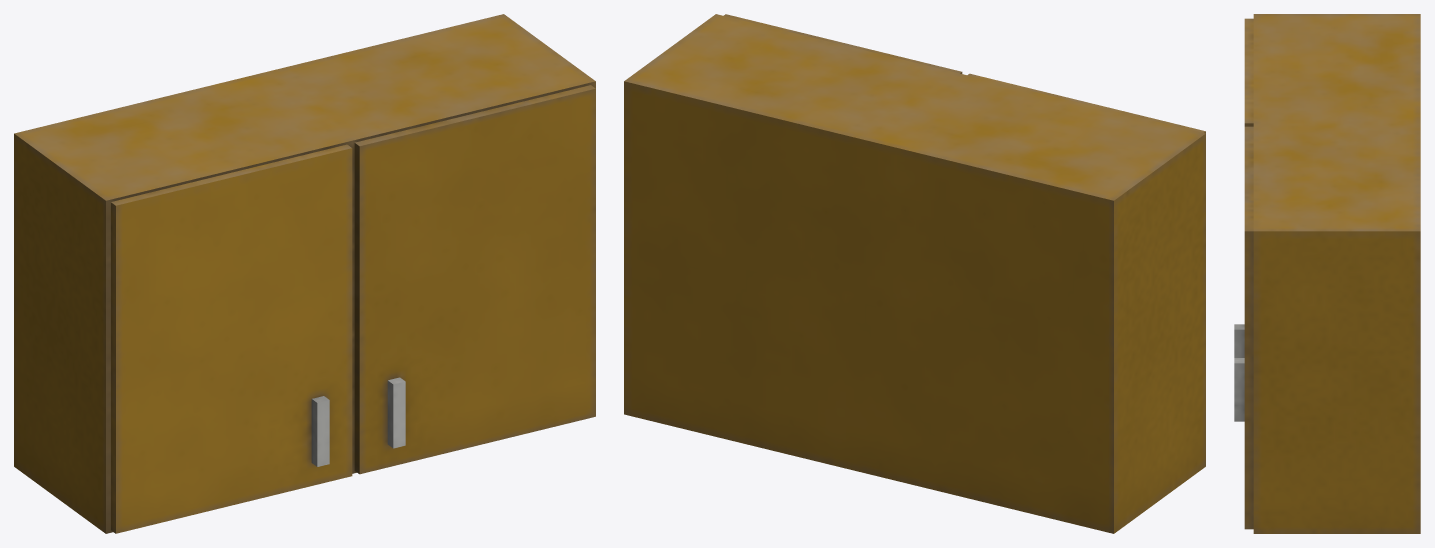
File: H_KitchenUpper.fbx
3 views of the same model, side by side, from view 1: azimuth 30°, elevation 25°; view 2: azimuth 150°, elevation 25°; view 3: azimuth 270°, elevation 25° (orthographic). The views are drawn at different scales.
Parts seen in each view (by area): view 1: H_KitchenUpper; view 2: H_KitchenUpper; view 3: H_KitchenUpper.
Part boxes in pixels (x1,y1,x2,y2): H_KitchenUpper: (14, 14, 595, 533); H_KitchenUpper: (624, 14, 1205, 533); H_KitchenUpper: (1234, 14, 1420, 533).
Bounding box in the file's own units: 400 × 260 × 145.
1 material, 1 textured.
